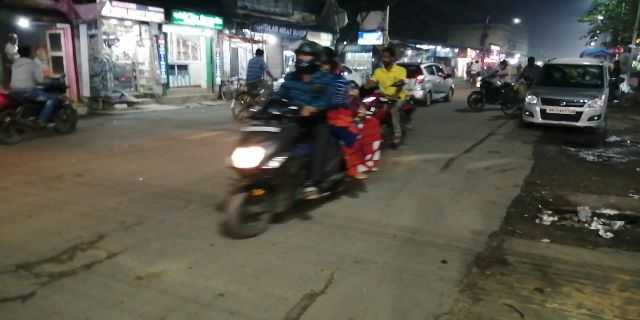Car: (522, 56, 609, 130)
Motorbike: (219, 44, 380, 238), (1, 44, 85, 145), (359, 45, 421, 150)
